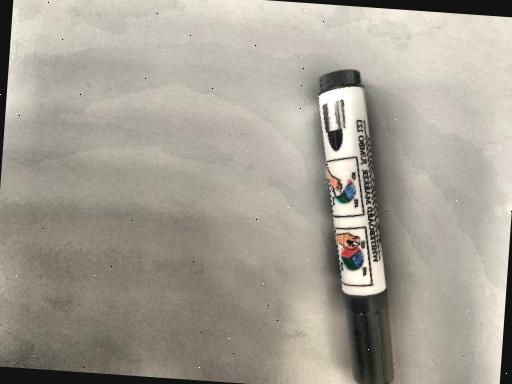marcador negro: (318, 70, 393, 384)
